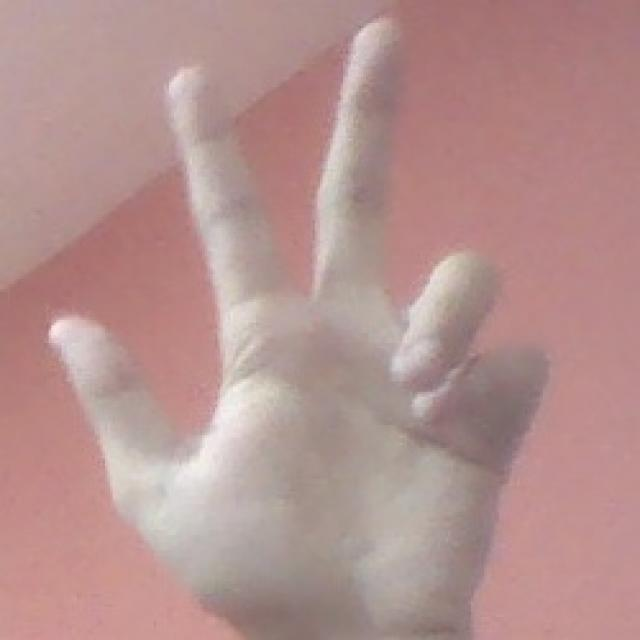Numeric-3: (60, 8, 497, 636)
